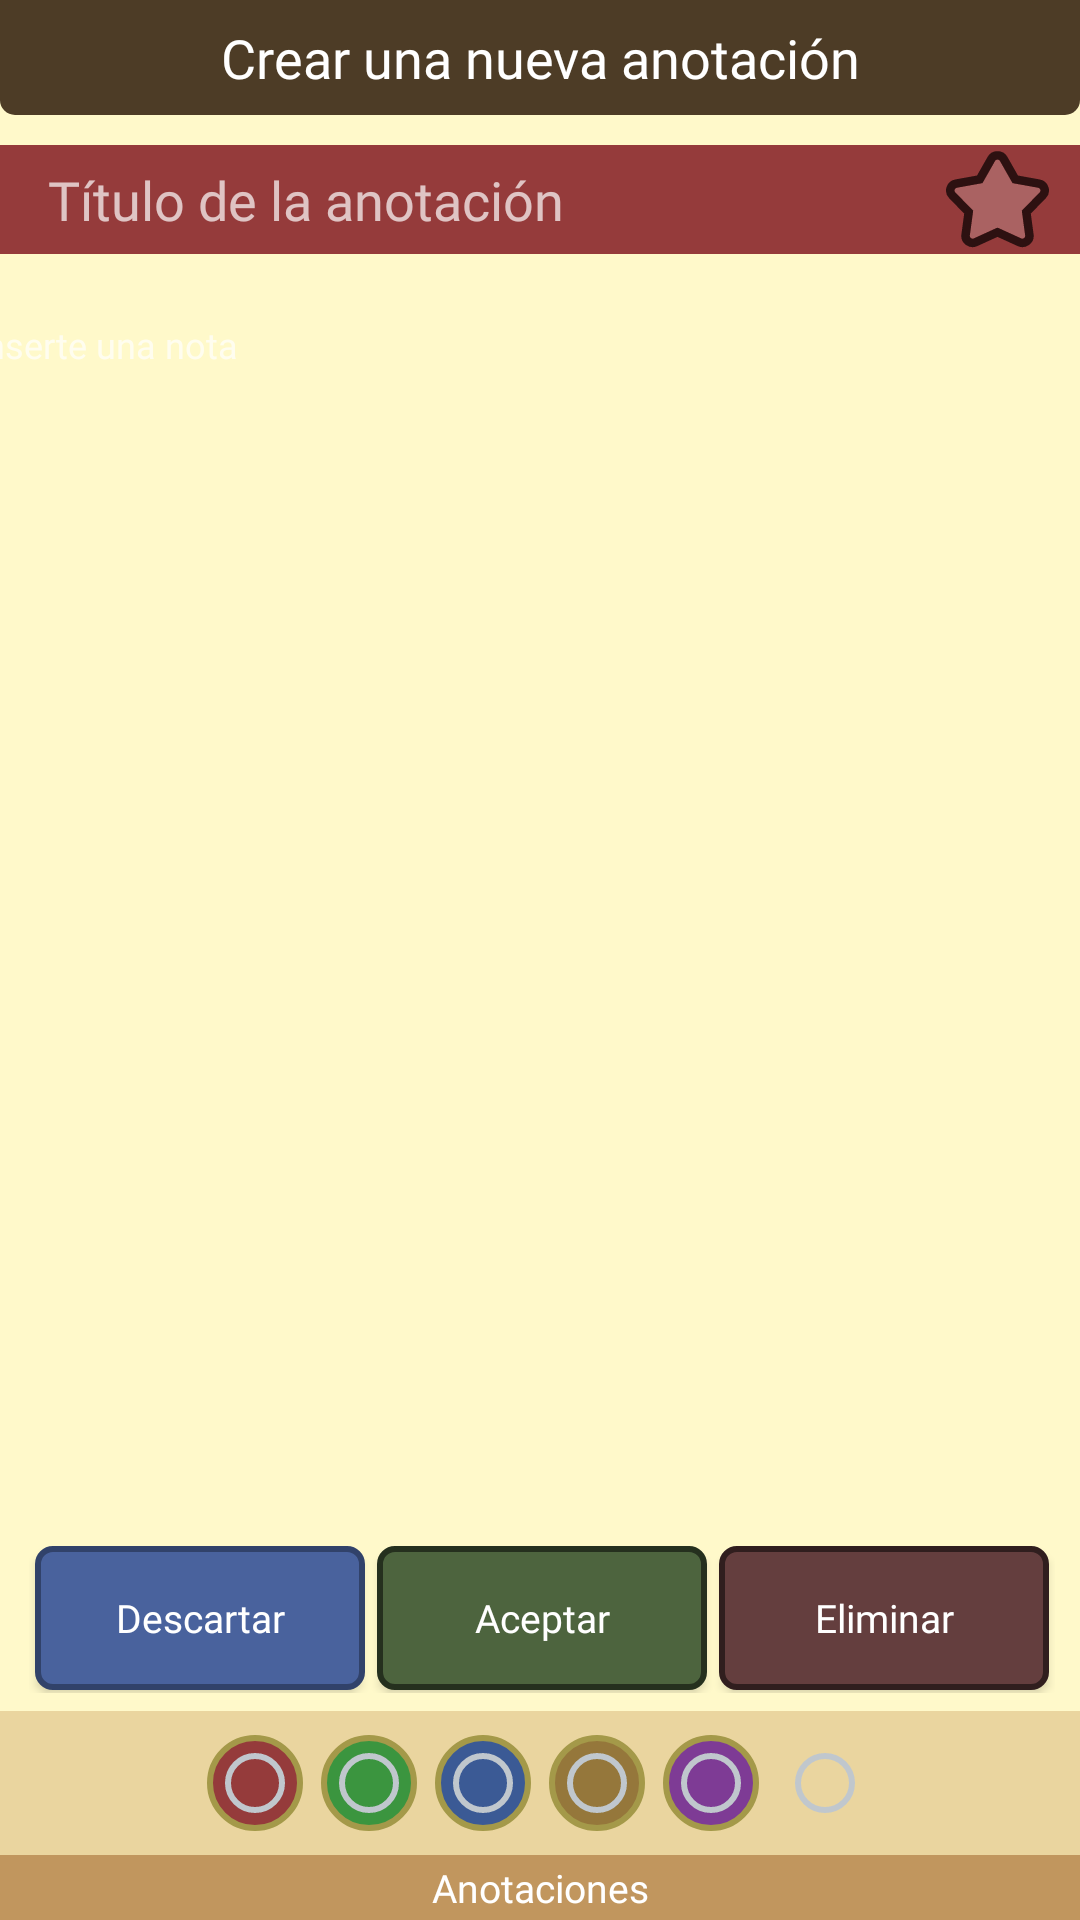

Screen size 1080px×1920px. Icon name, then its box in pixels as (x1=x1, y1=y1, x2=x2, y2=y2):
star down: (x1=946, y1=151, x2=1049, y2=248)
